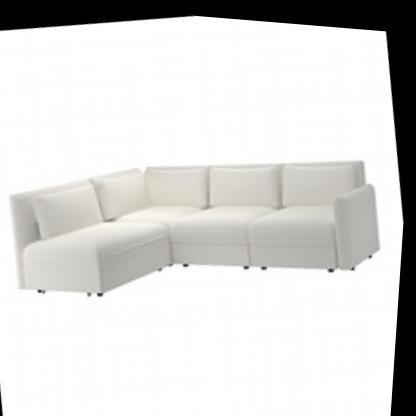Sofa: (0, 88, 395, 336)
